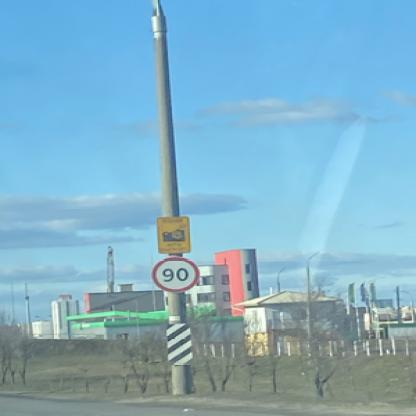speedlimit: (150, 256, 198, 291)
